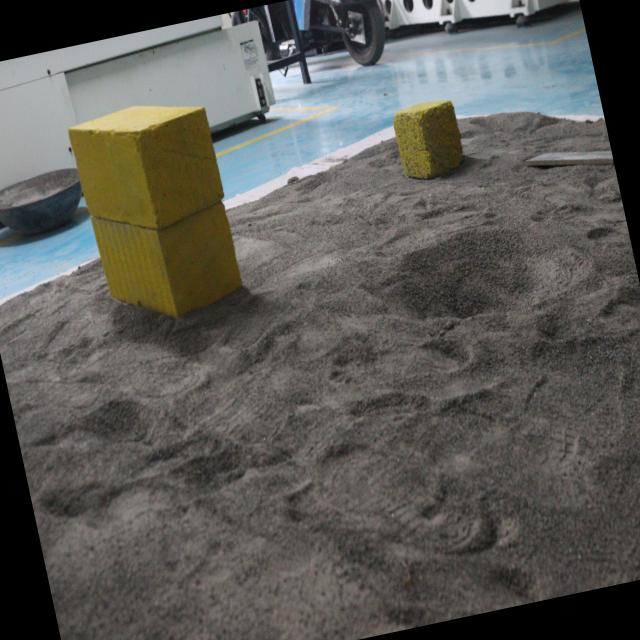box: (59, 92, 247, 336), (386, 94, 469, 188)
crater: (379, 194, 606, 359)
